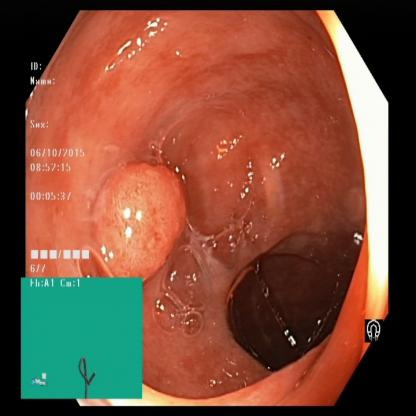Labels: (27, 57, 100, 278), (22, 278, 144, 398)
Polyps: (106, 165, 180, 275)
